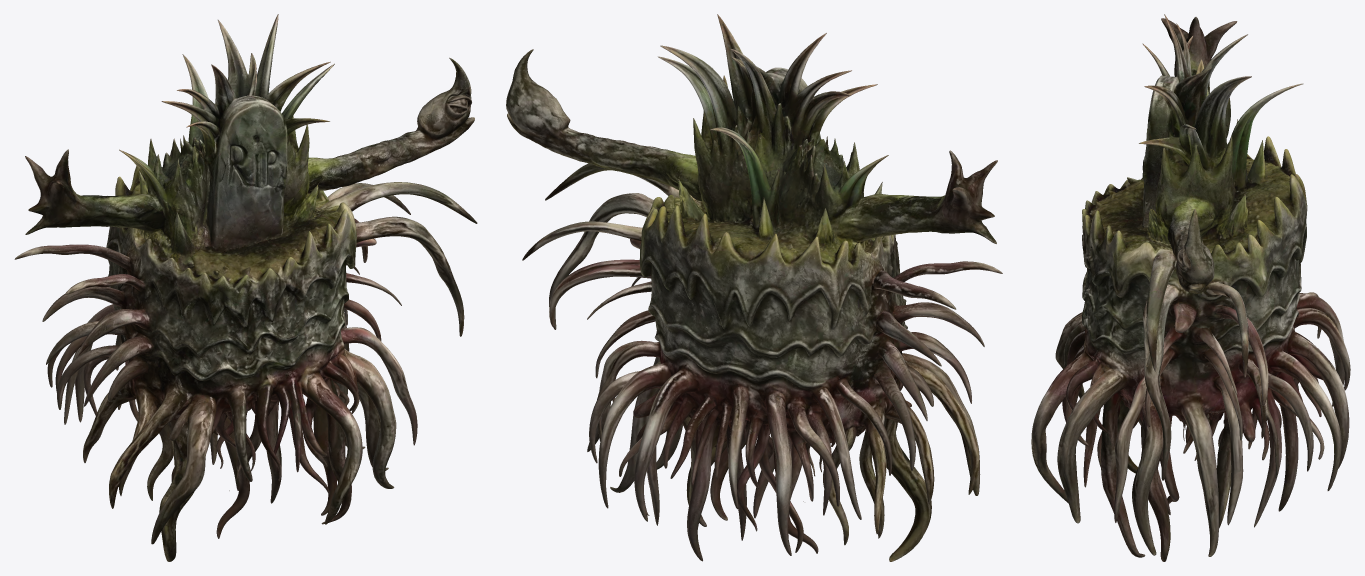
Rendered from GraveTitan.glb.
3 views of the same model, side by side, from view 1: azimuth 30°, elevation 25°; view 2: azimuth 150°, elevation 25°; view 3: azimuth 270°, elevation 25° (orthographic). The views are drawn at different scales.
Size of the model in its own units: 1.85 by 1.9 by 1.11.
1 material, 1 textured.
